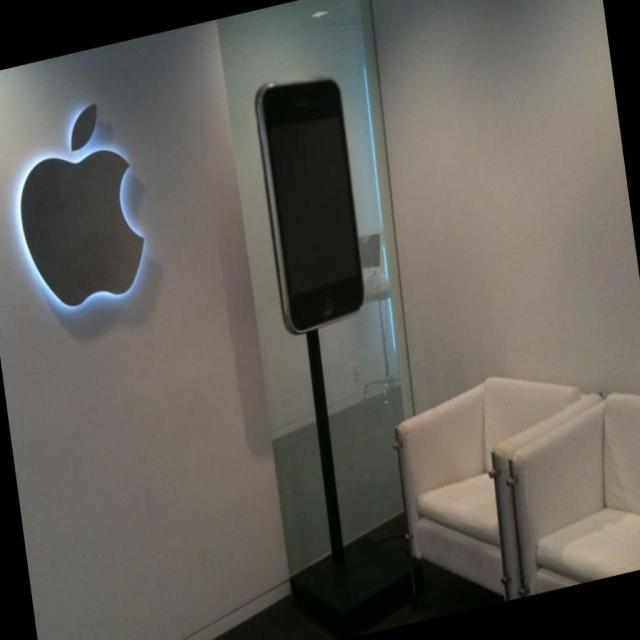phone: (258, 71, 366, 330)
